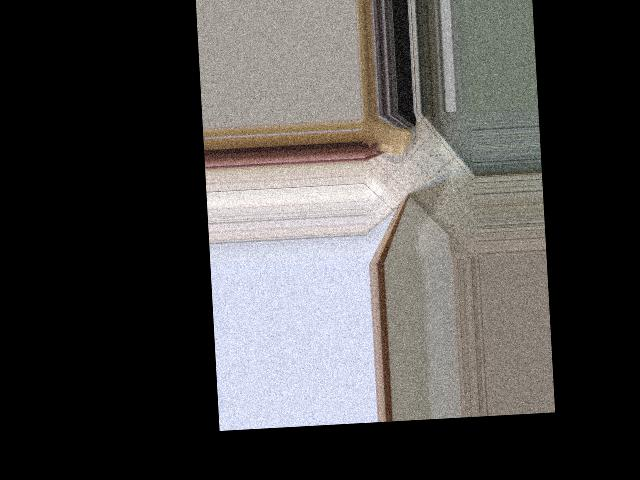cheese: (359, 112, 416, 164)
